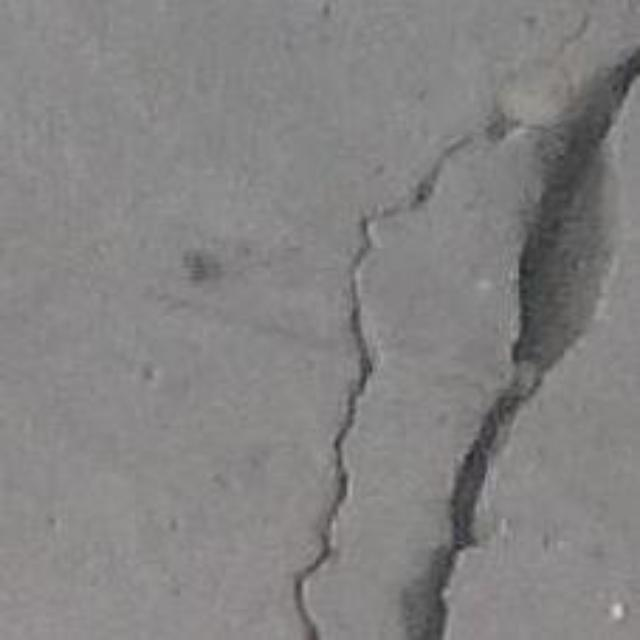crack: (401, 46, 639, 639)
